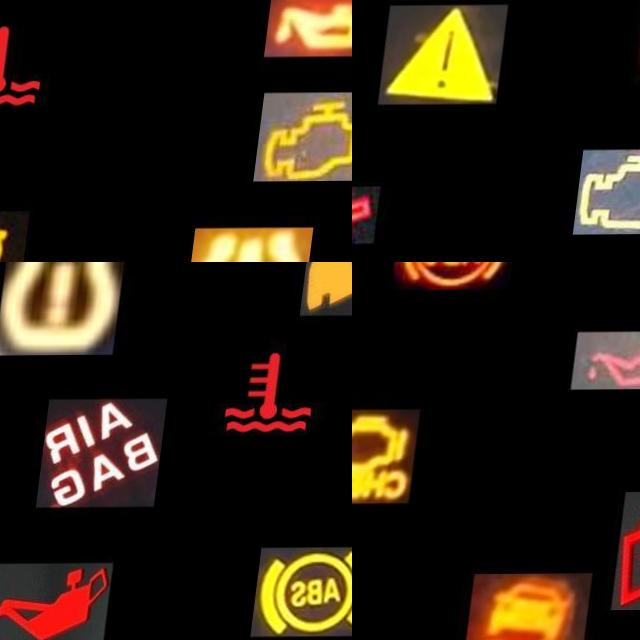Central Warning lamp: (390, 5, 518, 105)
Engine cooling system: (215, 334, 345, 452), (0, 6, 66, 125)
